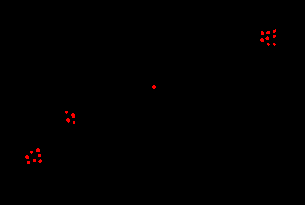Target: (71, 113, 75, 118), (66, 118, 70, 123), (265, 36, 269, 40), (260, 38, 264, 42), (152, 85, 156, 89), (36, 148, 40, 152), (25, 155, 29, 159), (38, 159, 42, 163), (273, 29, 276, 33), (261, 31, 264, 35), (266, 31, 270, 34), (273, 35, 276, 38), (267, 43, 270, 46), (273, 43, 276, 46), (65, 111, 68, 114), (30, 151, 33, 154), (38, 154, 41, 157), (33, 159, 36, 162), (27, 161, 30, 164), (73, 121, 75, 124)
